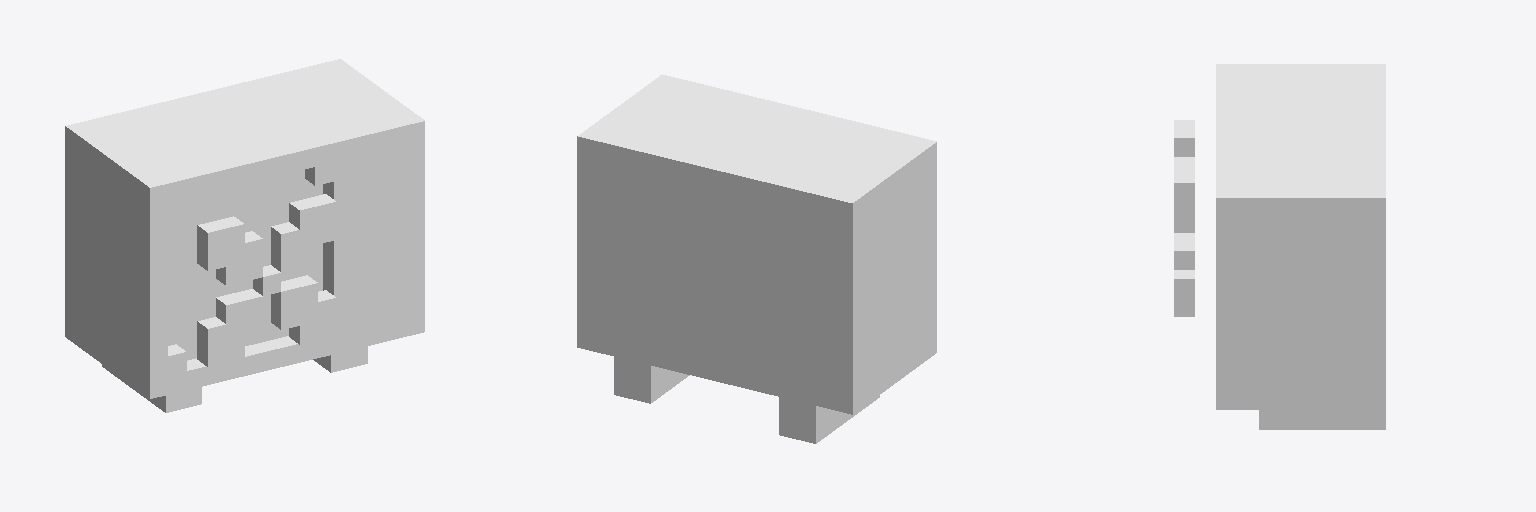
File: fenetre-7.obj
3 views of the same model, side by side, from view 1: azimuth 30°, elevation 25°; view 2: azimuth 150°, elevation 25°; view 3: azimuth 270°, elevation 25° (orthographic).
Parts seen in each view (by area): view 1: object 1; view 2: object 1; view 3: object 1.
Part boxes in pixels (left/top/right/bottom): object 1: left=65, top=59, right=424, bottom=412; object 1: left=577, top=74, right=936, bottom=443; object 1: left=1174, top=64, right=1385, bottom=429.
Bounding box in the file's own units: 1.5 × 1.3 × 1.